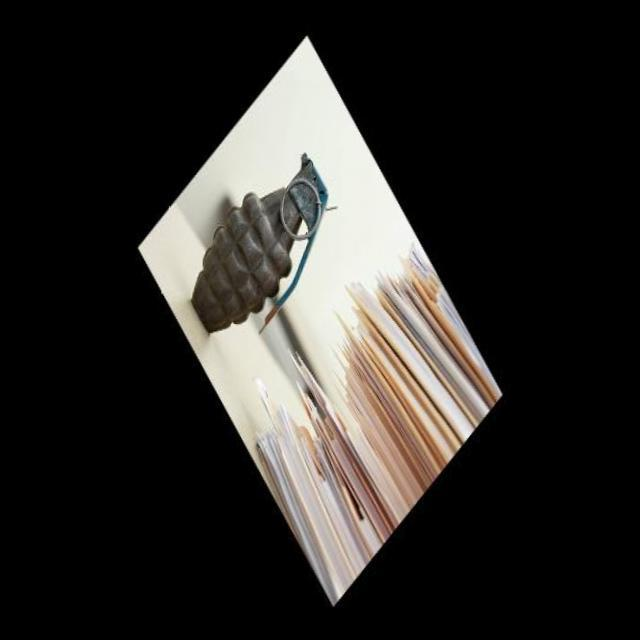grenade: (182, 134, 335, 342)
